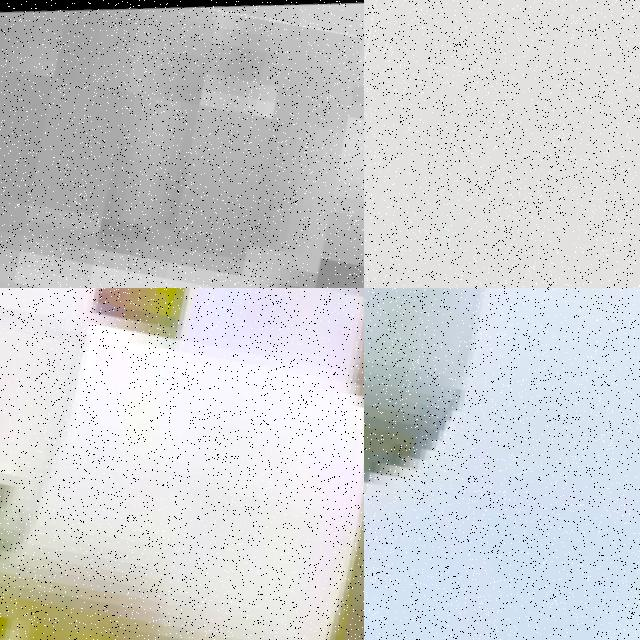0: (0, 0, 364, 288)
drone: (0, 288, 364, 640), (364, 288, 640, 640), (364, 0, 640, 288)
